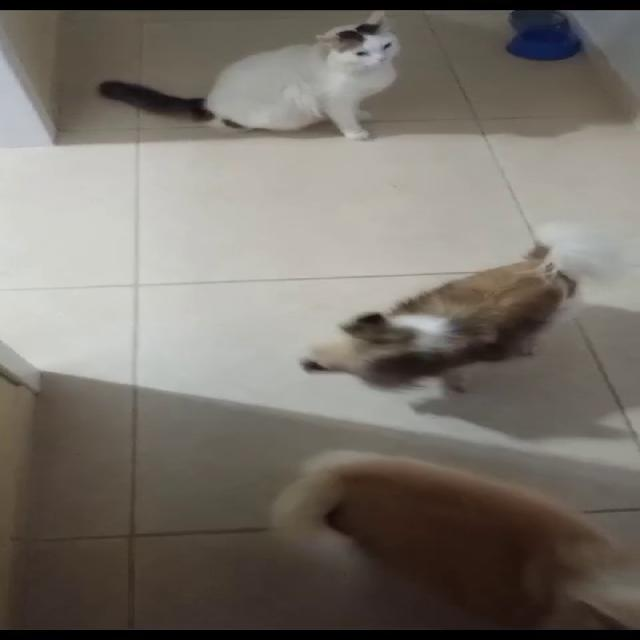Pedrita: (314, 242, 639, 414), (134, 20, 501, 150)
Simba: (134, 20, 501, 150)
Theo: (254, 404, 638, 639)
